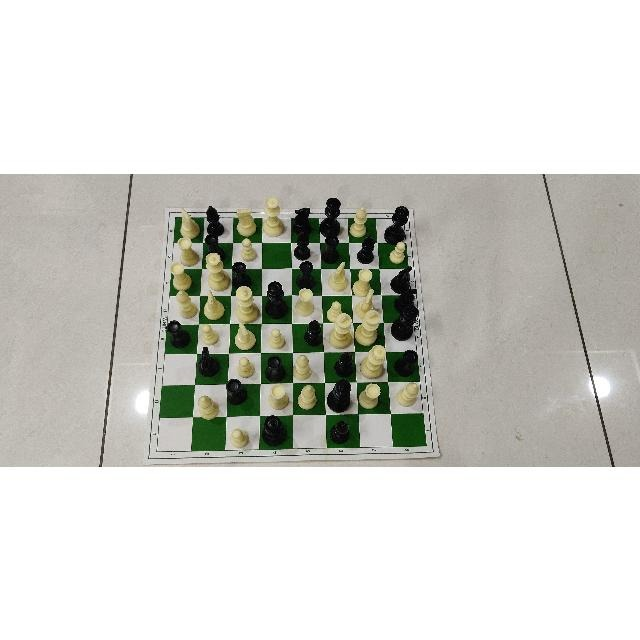black-bishop: (355, 234, 378, 262), (292, 231, 314, 259), (205, 203, 225, 233), (332, 418, 352, 444), (301, 320, 320, 344), (334, 351, 353, 375)
black-king: (391, 305, 422, 341), (322, 378, 353, 412), (320, 195, 342, 235)
black-knight: (199, 345, 221, 376), (391, 263, 413, 287), (293, 205, 314, 229), (394, 287, 418, 304)
black-queen: (383, 204, 410, 239), (267, 278, 290, 318), (264, 412, 288, 444)
black-rook: (167, 320, 191, 348), (394, 349, 418, 375), (225, 379, 246, 405), (267, 354, 286, 382), (297, 260, 316, 285), (232, 260, 252, 283), (321, 235, 338, 261), (203, 234, 225, 251)
white-bishop: (170, 289, 197, 317), (395, 380, 421, 406), (197, 394, 220, 420), (295, 384, 316, 412), (294, 353, 310, 383), (351, 205, 367, 233)
white-king: (229, 282, 257, 321), (328, 312, 354, 350), (357, 310, 383, 345)
white-knight: (228, 321, 260, 351), (324, 260, 352, 293), (201, 288, 228, 320), (178, 206, 203, 234), (234, 206, 253, 234), (359, 287, 378, 308)
white-pawn: (198, 322, 221, 344), (229, 425, 250, 449), (386, 241, 412, 260), (236, 354, 253, 377), (271, 326, 287, 350), (236, 236, 254, 257), (325, 297, 342, 314)
white-queen: (262, 195, 285, 237), (362, 344, 387, 378), (205, 251, 225, 286)
white-rook: (291, 285, 314, 317), (358, 383, 382, 411), (170, 261, 193, 289), (177, 237, 201, 261), (268, 384, 288, 409), (354, 265, 373, 286)
